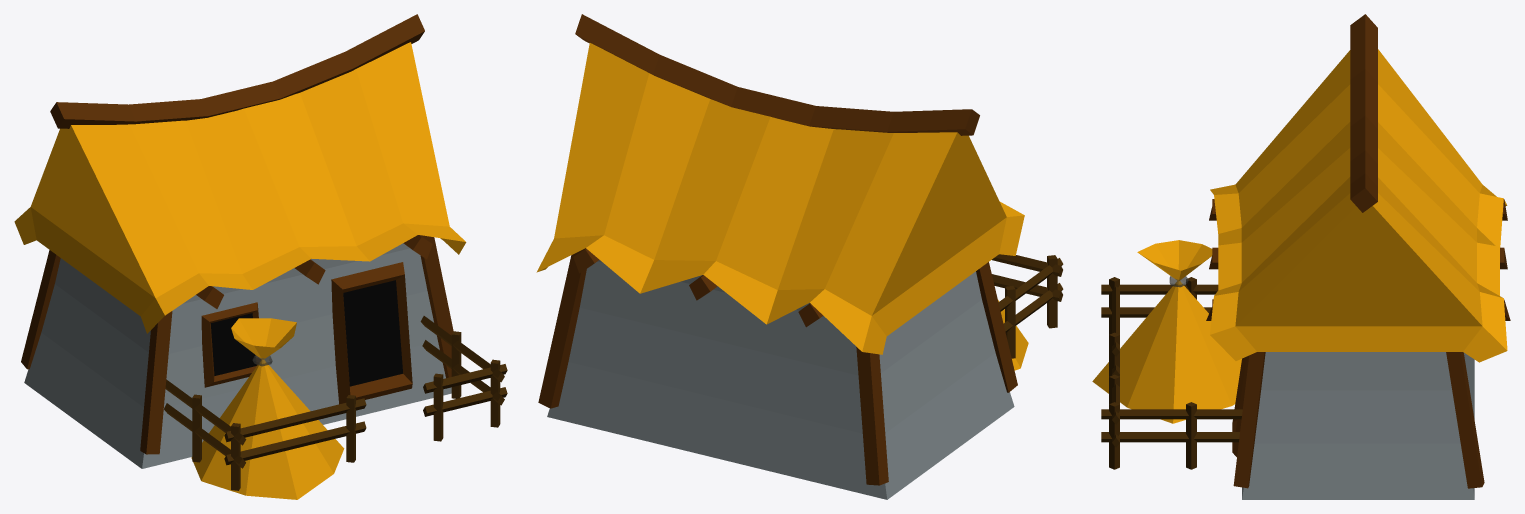
Rendered from Farm.fbx.
3 renders of one model, left to right at view 1: azimuth 30°, elevation 25°; view 2: azimuth 150°, elevation 25°; view 3: azimuth 270°, elevation 25°, orthographic. The views are drawn at different scales.
Visible parts, largest first — view 1: Цилиндр.001; view 2: Цилиндр.001; view 3: Цилиндр.001.
Boxes of the visible parts, left/top/right/bottom form: Цилиндр.001: left=14, top=14, right=507, bottom=499; Цилиндр.001: left=536, top=14, right=1063, bottom=499; Цилиндр.001: left=1092, top=14, right=1510, bottom=499.
Bounding box in the file's own units: 286 × 248 × 291.
